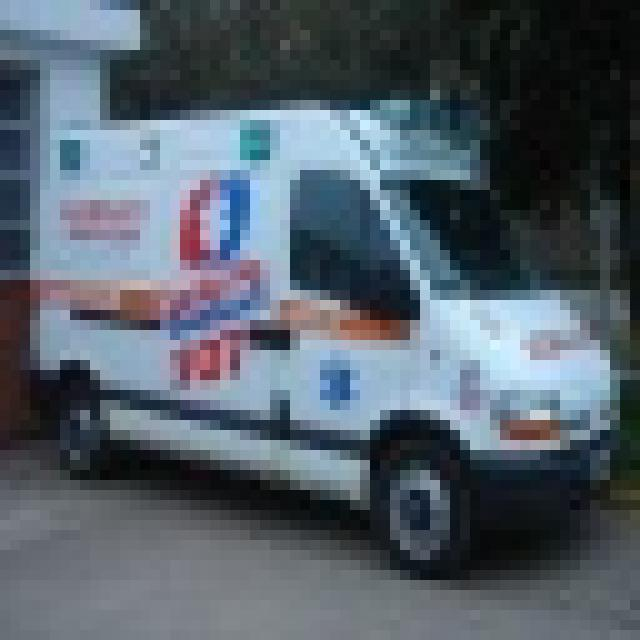Ambulance: (20, 90, 620, 570)
